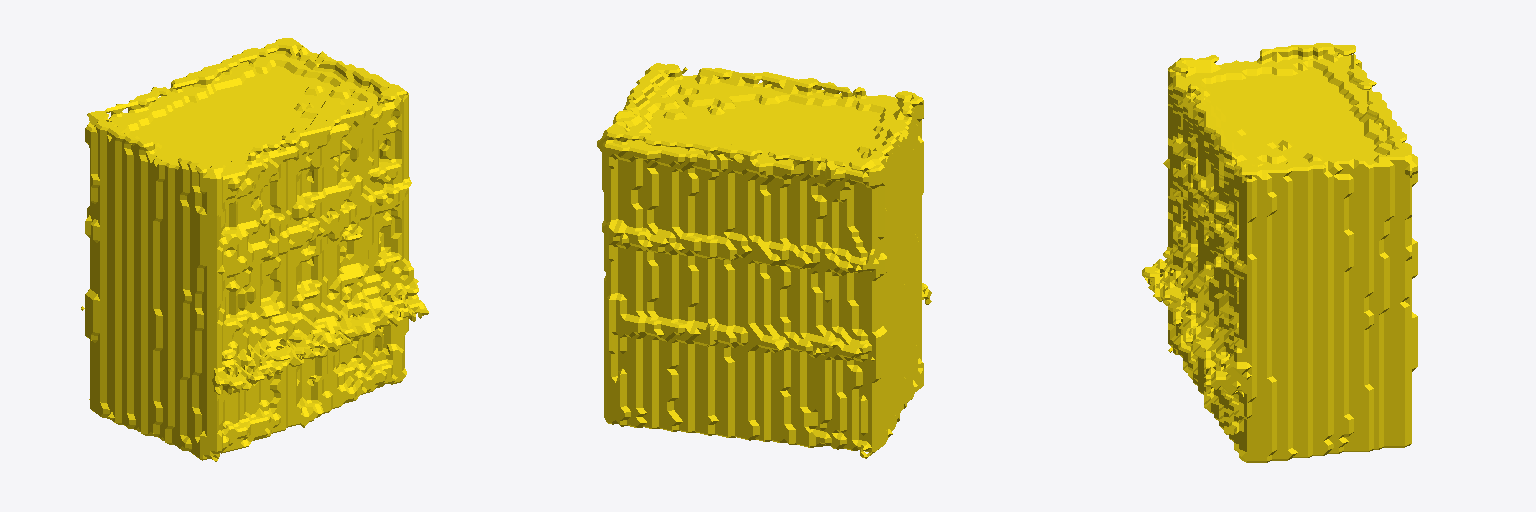
The model's file is gen8_colored.obj.
3 renders of one model, left to right at view 1: azimuth 30°, elevation 25°; view 2: azimuth 150°, elevation 25°; view 3: azimuth 270°, elevation 25°, orthographic.
Parts seen in each view (by area): view 1: gen8.obj; view 2: gen8.obj; view 3: gen8.obj.
Boxes of the visible parts, <box> form: gen8.obj: <box>81,38,428,461</box>; gen8.obj: <box>597,63,931,458</box>; gen8.obj: <box>1142,43,1417,462</box>.
Bounding box in the file's own units: 64 × 64 × 54.